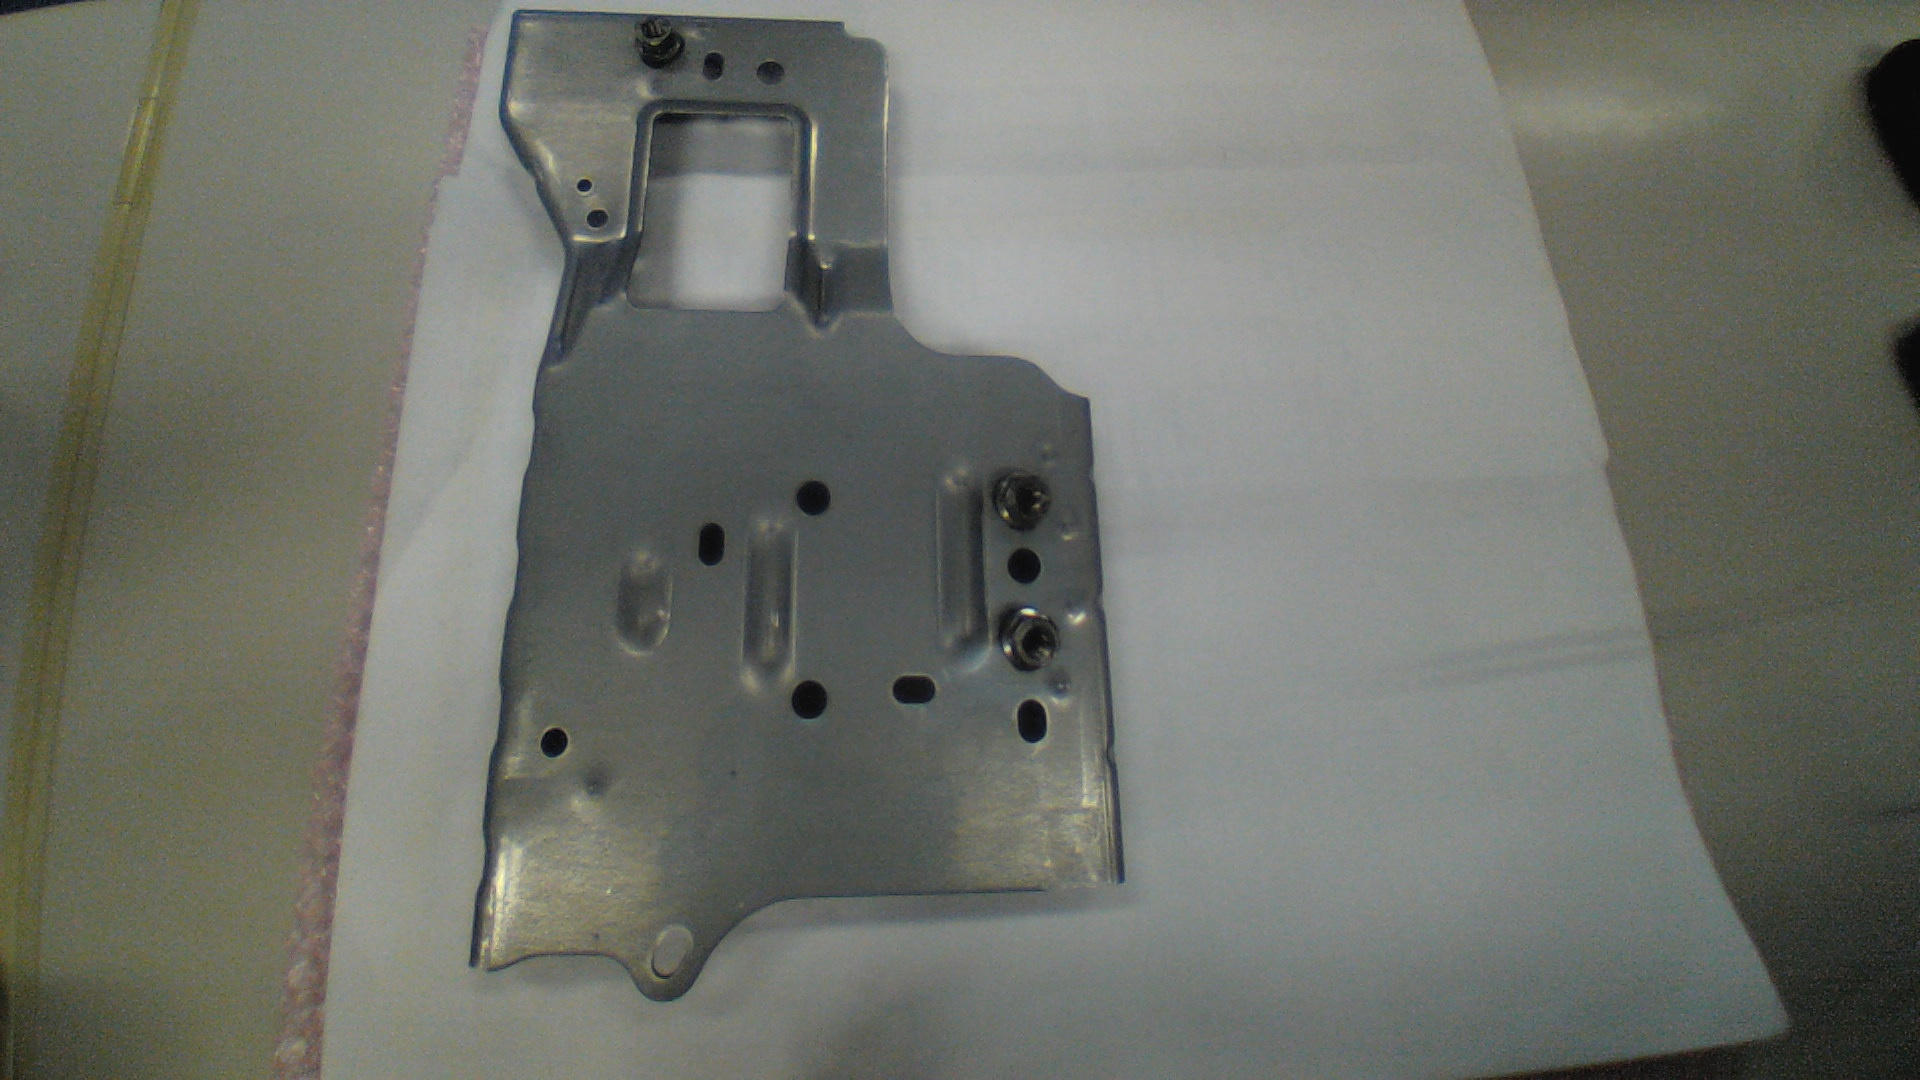dog: (998, 607, 1063, 673), (992, 467, 1051, 531), (634, 16, 684, 73)
